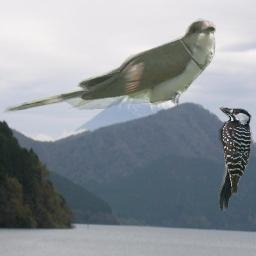Cuckoo: (2, 18, 216, 116)
Woodpecker: (217, 105, 254, 211)
